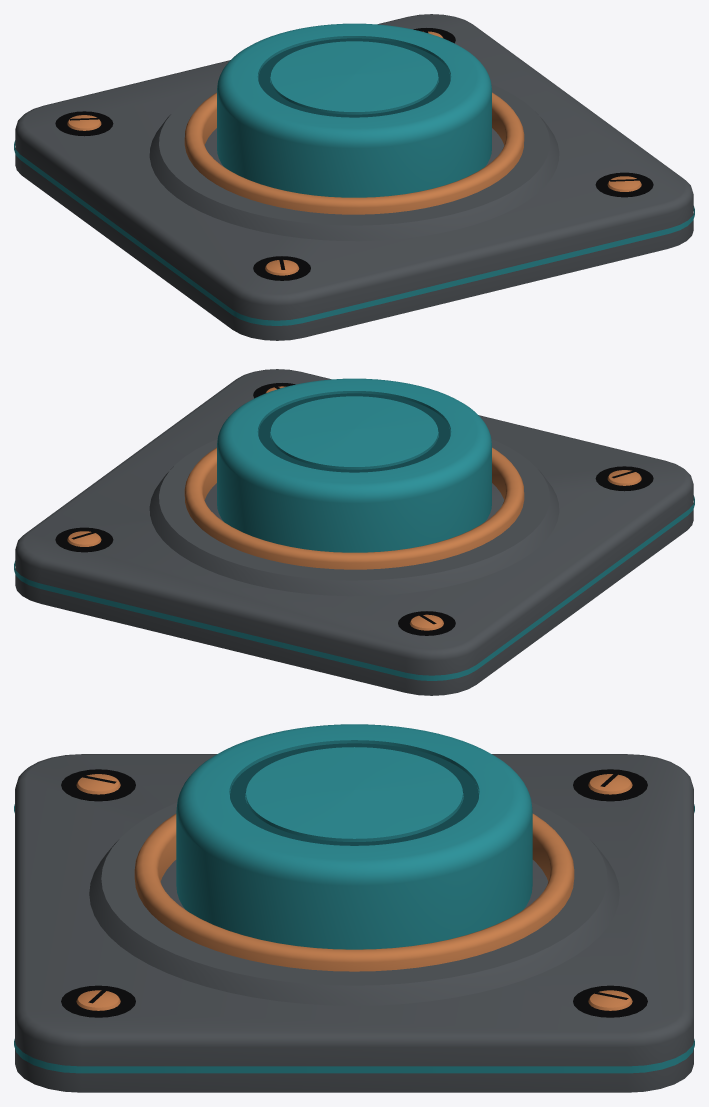
Rendered from button.glb.
The picture shows the model from 3 angles, top to bottom: view 1: azimuth 30°, elevation 25°; view 2: azimuth 150°, elevation 25°; view 3: azimuth 270°, elevation 25°; orthographic projection. The views are drawn at different scales.
Parts seen in each view (by area): view 1: Housing, Face; view 2: Housing, Face; view 3: Housing, Face.
Boxes of the visible parts, x1,y1,x2,y2 form: Housing: [14, 14, 694, 340]; Face: [217, 23, 491, 197]; Housing: [14, 369, 694, 695]; Face: [217, 378, 491, 552]; Housing: [14, 754, 694, 1092]; Face: [176, 724, 532, 949].
Size of the model in its own units: 0.2448 by 0.0648 by 0.2448.
